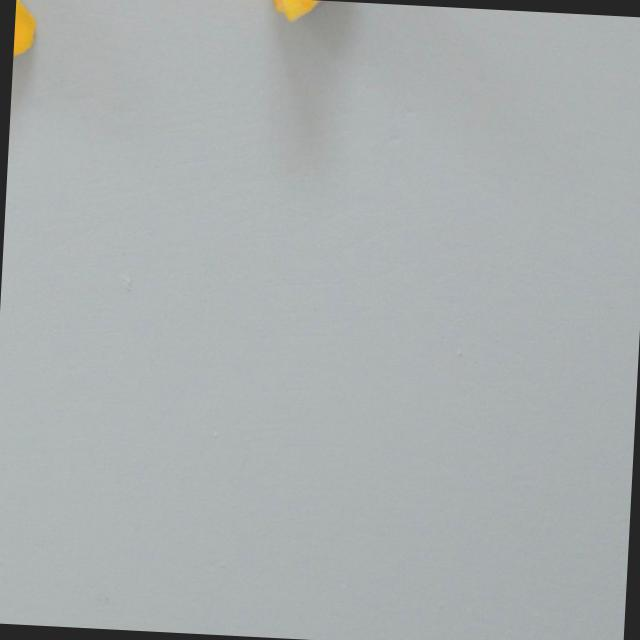dañado: (259, 0, 356, 27), (13, 0, 41, 66)
